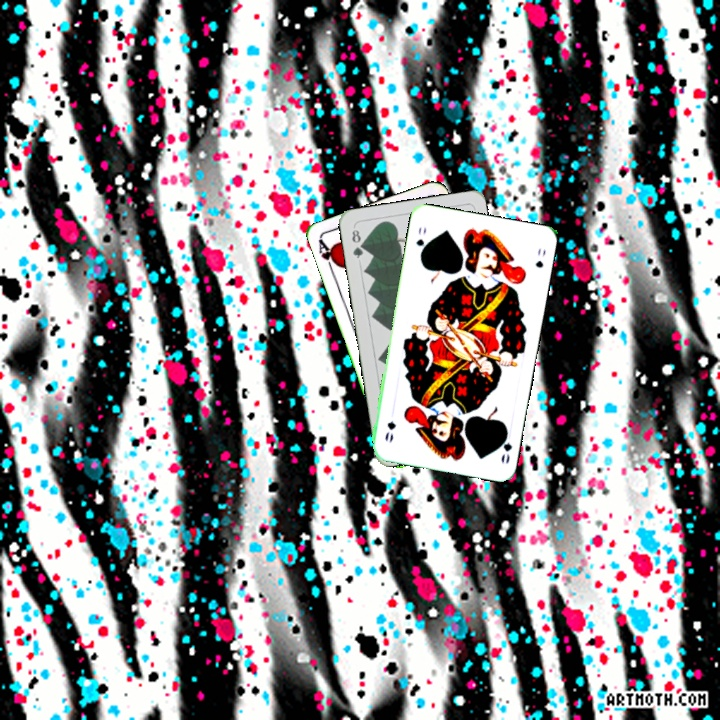G8: (348, 225, 366, 261)
GO: (495, 425, 515, 467), (412, 222, 429, 260)
HA: (314, 236, 342, 276)
